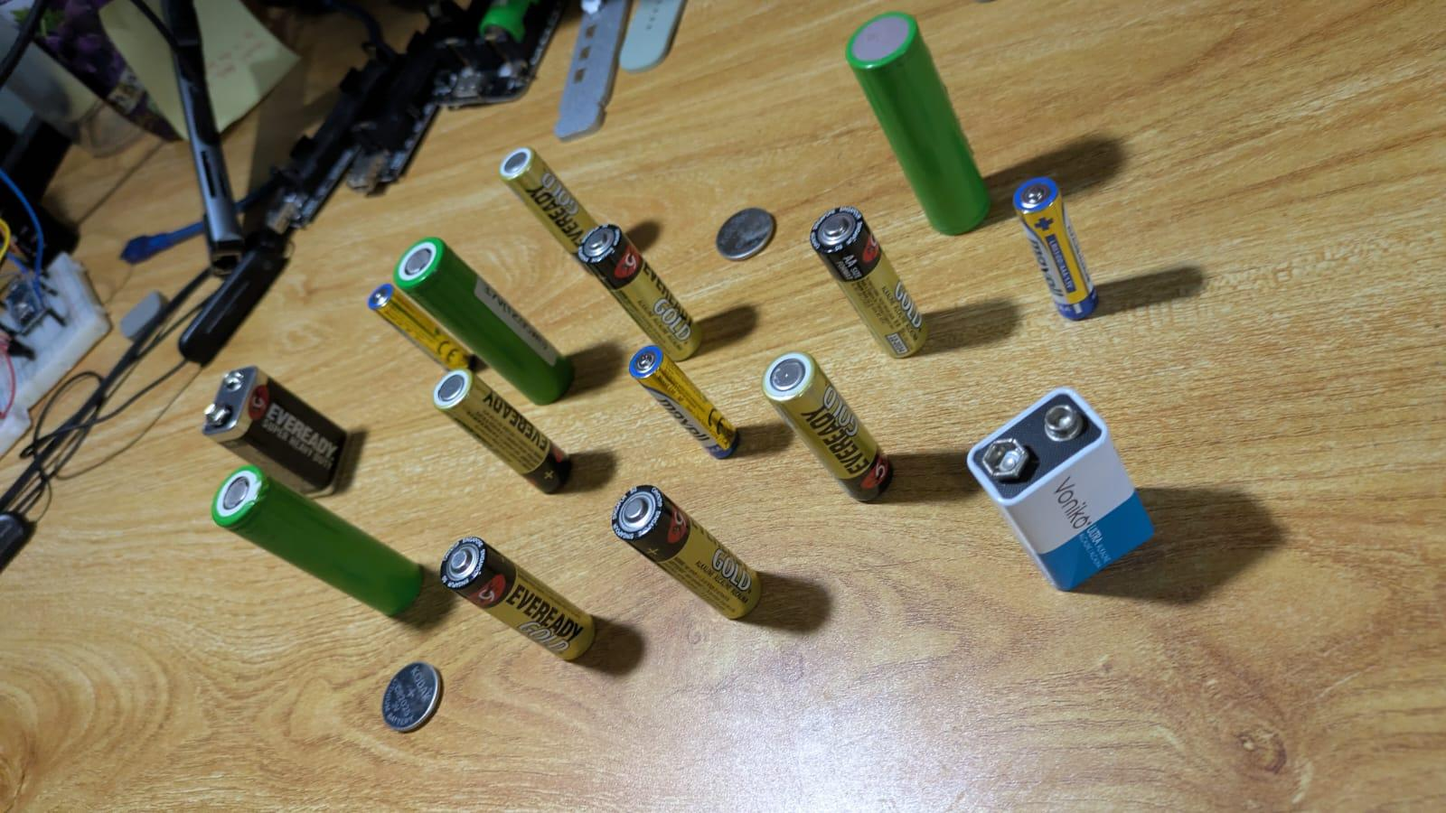9V: (960, 382, 1151, 592), (204, 364, 350, 498)
AA: (439, 532, 598, 663), (612, 482, 757, 620), (424, 364, 571, 498), (570, 218, 700, 366), (773, 351, 896, 500), (811, 204, 927, 358), (497, 146, 599, 259)
AAA: (1002, 167, 1113, 330), (623, 336, 746, 464), (356, 271, 476, 372)
COIN: (380, 660, 445, 733), (713, 208, 773, 261)
